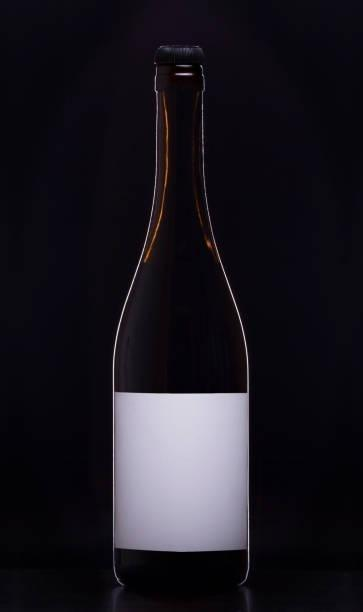bottle-glass: (105, 40, 256, 594)
